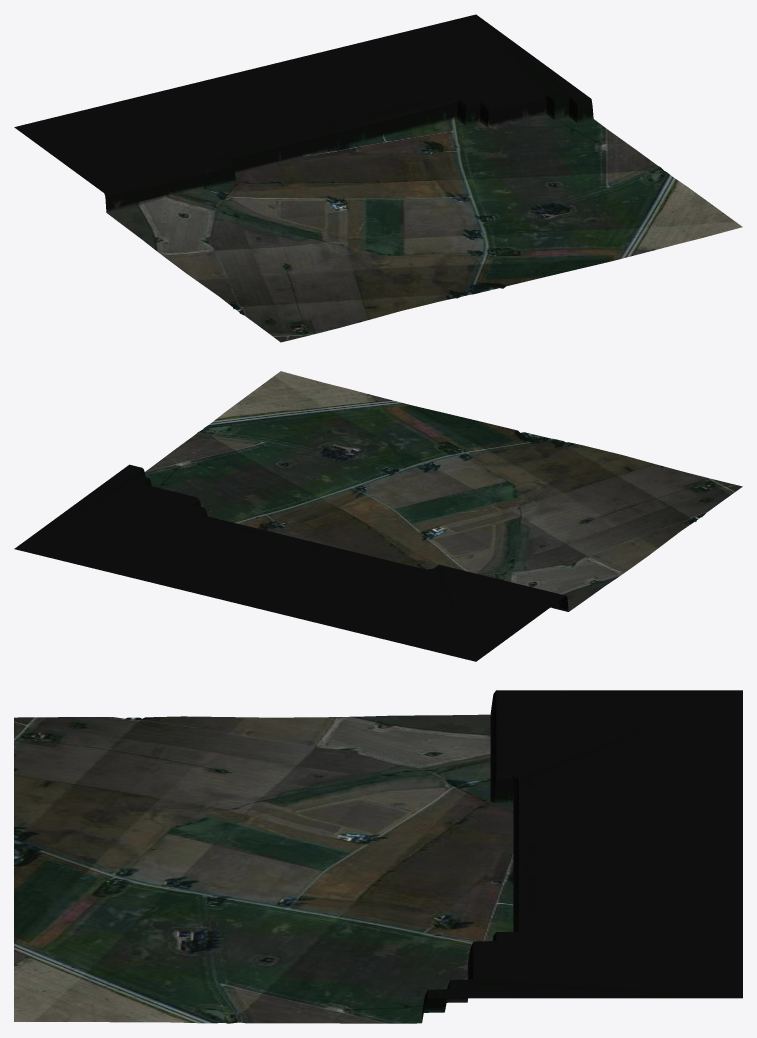
Rendered from map_10_257_433.dae.
3 renders of one model, top to bottom at view 1: azimuth 30°, elevation 25°; view 2: azimuth 150°, elevation 25°; view 3: azimuth 270°, elevation 25°, orthographic. The views are drawn at different scales.
Visible parts, largest first — view 1: Ter0; view 2: Ter0; view 3: Ter0.
Part boxes in pixels (left/top/right/bottom): Ter0: left=14, top=14, right=742, bottom=342; Ter0: left=14, top=371, right=742, bottom=661; Ter0: left=14, top=690, right=742, bottom=1023.
Bounding box in the file's own units: 2044 × 2044 × 100.
2 materials, 2 textured.
